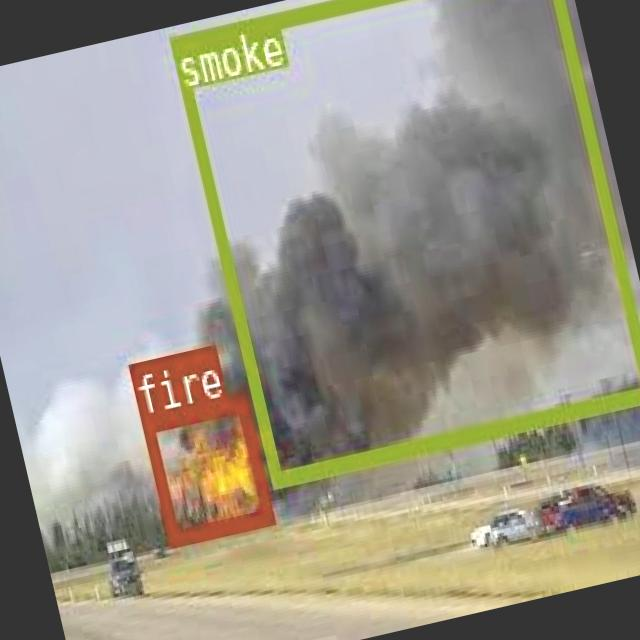fire: (138, 393, 272, 544)
smoke: (166, 0, 640, 485)
